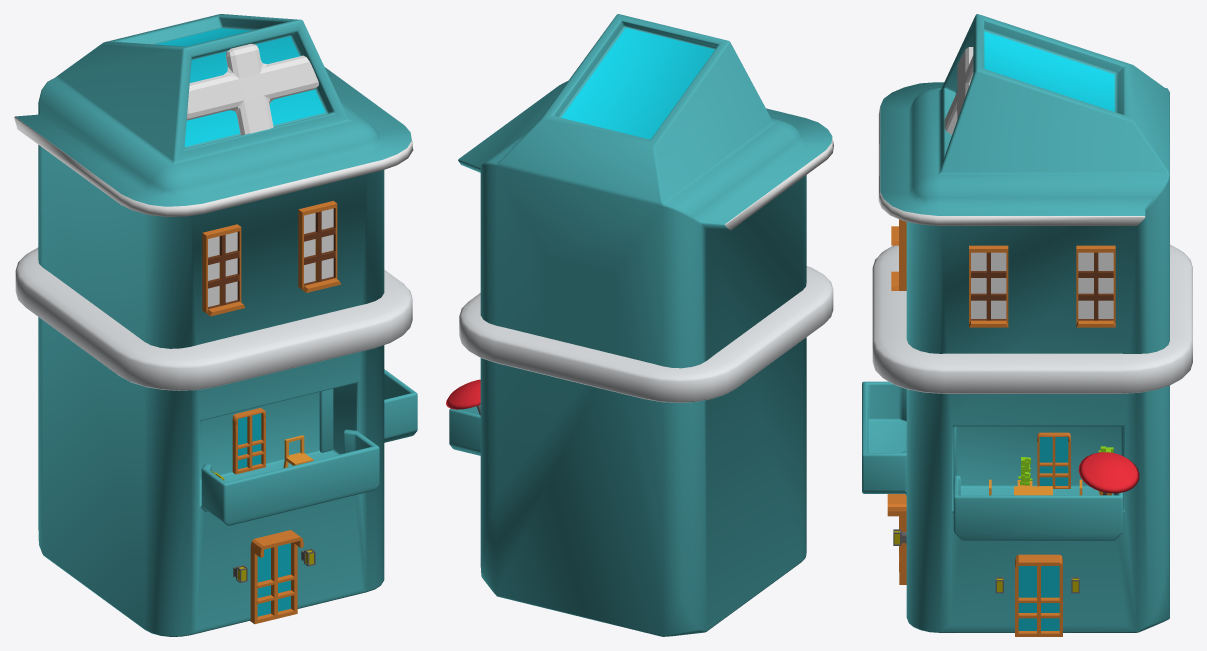
Rendered from mono_col_apart.fbx.
3 renders of one model, left to right at view 1: azimuth 30°, elevation 25°; view 2: azimuth 150°, elevation 25°; view 3: azimuth 270°, elevation 25°, orthographic. The views are drawn at different scales.
Parts seen in each view (by area): view 1: Cube, Cube.007, Cube.001, Cube.016, Cube.008, Cube.009, Cube.019; view 2: Cube, Cube.007, Circle.001; view 3: Cube, Cube.007, Cube.012, Cube.015, Cube.010, Circle.001, Cube.011, Cube.001, Cube.016, Cube.009.
Boxes of the visible parts, x1,y1,x2,y2 form: Cube: [14, 14, 417, 636]; Cube.007: [15, 247, 412, 390]; Cube.001: [186, 43, 318, 135]; Cube.016: [250, 530, 303, 624]; Cube.008: [202, 224, 245, 316]; Cube.009: [298, 201, 341, 292]; Cube.019: [232, 408, 265, 474]; Cube: [449, 14, 833, 636]; Cube.007: [459, 266, 833, 402]; Circle.001: [446, 379, 480, 415]; Cube: [862, 14, 1169, 632]; Cube.007: [872, 244, 1192, 393]; Cube.012: [1015, 554, 1062, 636]; Cube.015: [1076, 245, 1115, 327]; Cube.010: [969, 245, 1008, 327]; Circle.001: [1078, 452, 1139, 495]; Cube.011: [1037, 432, 1070, 488]; Cube.001: [944, 47, 973, 134]; Cube.016: [887, 494, 906, 584]; Cube.009: [891, 219, 906, 290].
Bounding box in the file's own units: 42.41 × 71.76 × 40.12.
